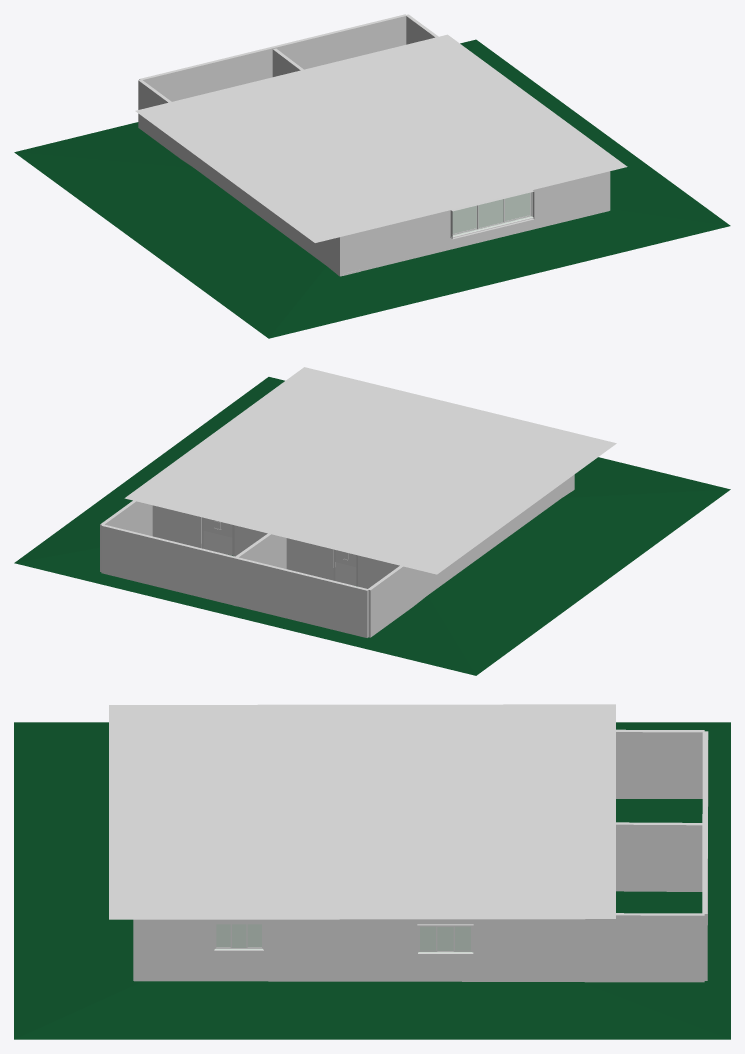
Rendered from room_v3.fbx.
The picture shows the model from 3 angles, top to bottom: view 1: azimuth 30°, elevation 25°; view 2: azimuth 150°, elevation 25°; view 3: azimuth 270°, elevation 25°; orthographic projection. The views are drawn at different scales.
Visible parts, largest first — view 1: Ceil, Floor, Wall.002, Wall.004, Wall, Window Panel.008, Wall.001, Window Panel.009, Window Panel.007, Wall.005; view 2: Ceil, Floor, Wall.004, Wall, Wall.003, Wall.001, Wall.005, Plane.001; view 3: Ceil, Floor, Wall.001, Wall.005, Wall, Wall.004.
Boxes of the visible parts, x1=… form: Ceil: x1=135, y1=34, x2=627, y2=242; Floor: x1=14, y1=39, x2=730, y2=338; Wall.002: x1=343, y1=171, x2=609, y2=273; Wall.004: x1=139, y1=14, x2=406, y2=101; Wall: x1=138, y1=80, x2=343, y2=276; Window Panel.008: x1=477, y1=199, x2=504, y2=229; Wall.001: x1=406, y1=14, x2=610, y2=210; Window Panel.009: x1=505, y1=192, x2=530, y2=222; Window Panel.007: x1=452, y1=205, x2=476, y2=234; Wall.005: x1=272, y1=48, x2=303, y2=76; Ceil: x1=124, y1=367, x2=616, y2=574; Floor: x1=14, y1=377, x2=730, y2=675; Wall.004: x1=101, y1=524, x2=368, y2=637; Wall: x1=368, y1=474, x2=574, y2=637; Wall.003: x1=152, y1=505, x2=399, y2=588; Wall.001: x1=100, y1=500, x2=152, y2=571; Wall.005: x1=234, y1=533, x2=286, y2=606; Plane.001: x1=203, y1=531, x2=232, y2=555; Ceil: x1=109, y1=704, x2=615, y2=919; Floor: x1=14, y1=722, x2=730, y2=1039; Wall.001: x1=134, y1=913, x2=704, y2=982; Wall.005: x1=616, y1=822, x2=702, y2=891; Wall: x1=616, y1=729, x2=704, y2=798; Wall.004: x1=702, y1=731, x2=708, y2=980.
Size of the model in its own units: 2752 by 295 by 2627.
